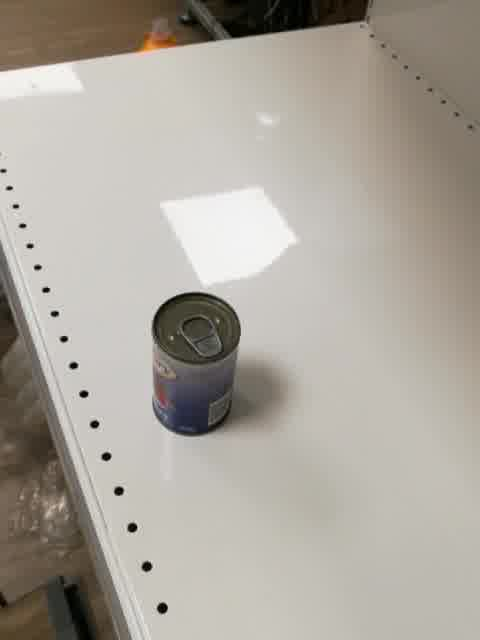sardine: (148, 291, 242, 438)
